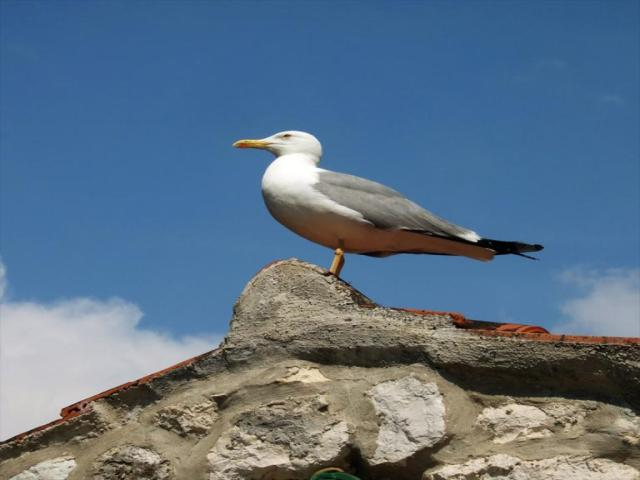Bird: (229, 136, 522, 284)
